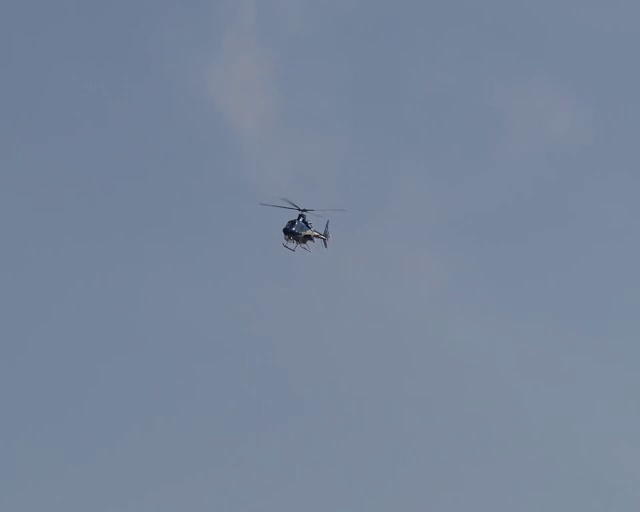HELICOPTER: (258, 196, 346, 252)
